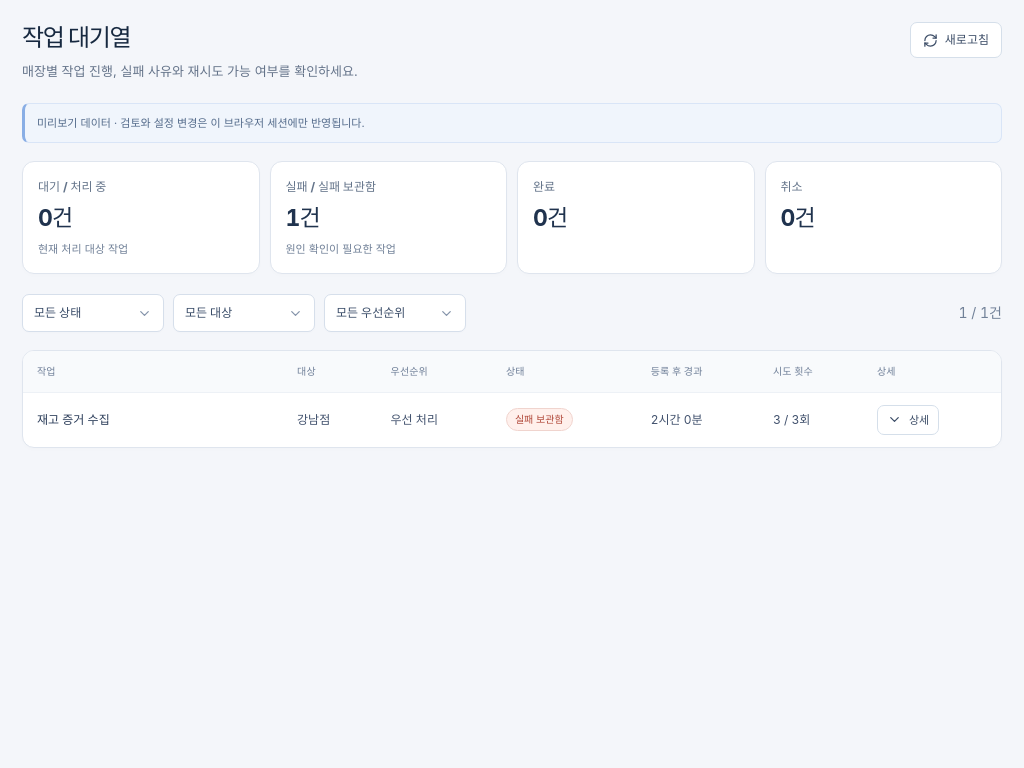
it: 연동과 작업 대기열 › 대기열 오류와 처리 권한을 표시하고 재시도를 API에 위임한다
Expected: the text "재고 증거 수집" is shown, [23,392,283,447]
What coordinates should you click on to do the following:
click the button with aria-label "재고 증거 수집 상세 보기"
I would click on:
 (908, 420)
Its box is [877,405,939,435].
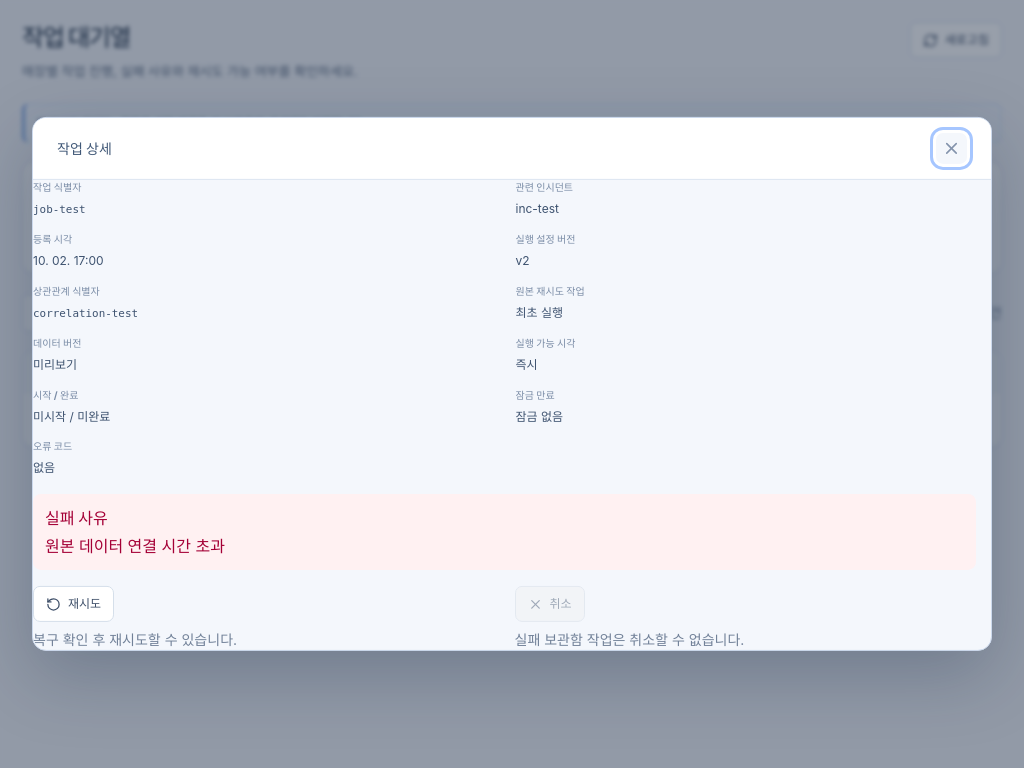
Result: the text "원본 데이터 연결 시간 초과" is shown at [45,536,225,556]
Result: the button "취소" is disabled at [514,586,585,622]
Result: the text "실패 보관함 작업은 취소할 수 없습니다." is shown at [514,631,744,648]
What coordinates should you click on to do the following:
click the button "재시도"
I would click on:
 (74, 604)
Its box is [33,586,114,622].
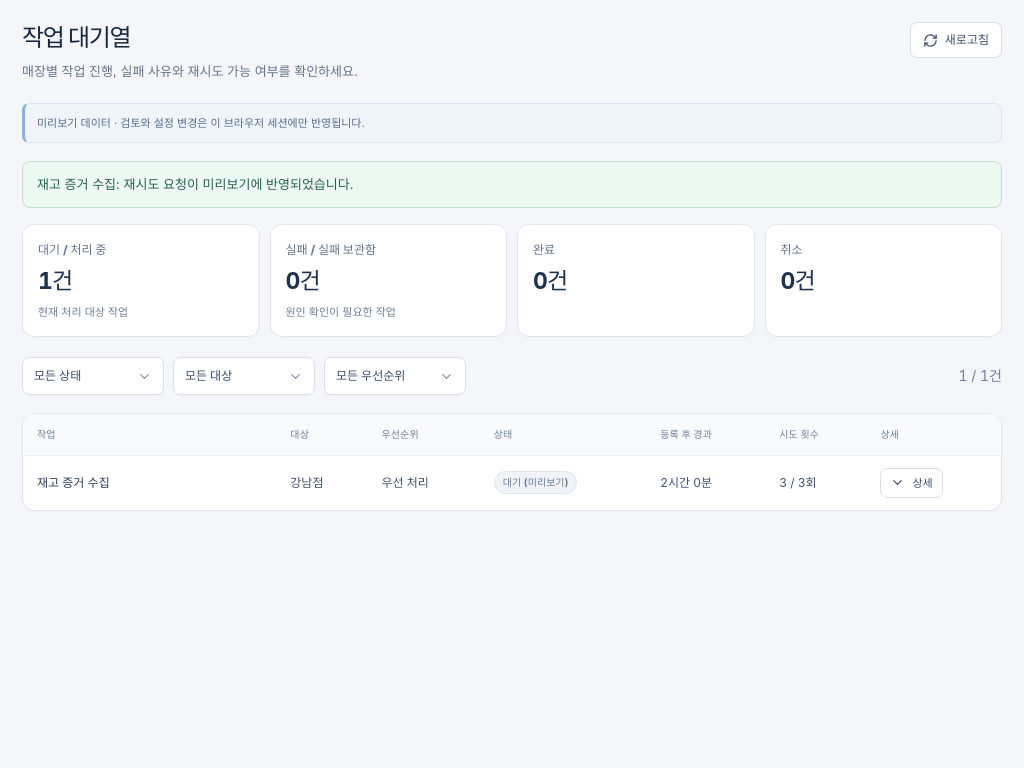
Result: the text "재고 증거 수집: 재시도 요청이 미리보기에 반영되었습니다." is shown at [22,161,1002,208]
